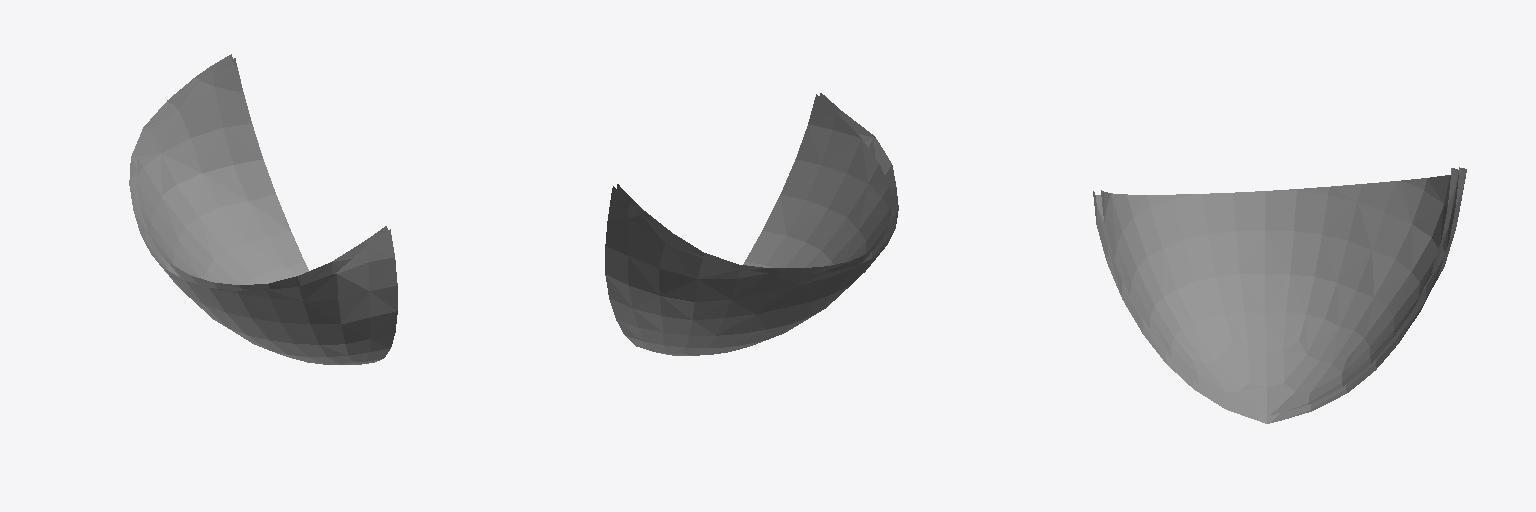
The model's file is Rightventricle.obj.
3 views of the same model, side by side, from view 1: azimuth 30°, elevation 25°; view 2: azimuth 150°, elevation 25°; view 3: azimuth 270°, elevation 25° (orthographic).
Parts seen in each view (by area): view 1: Human_Heart; view 2: Human_Heart; view 3: Human_Heart.
Part boxes in pixels (bbox=[...]): Human_Heart: bbox=[129, 54, 397, 364]; Human_Heart: bbox=[605, 93, 898, 355]; Human_Heart: bbox=[1093, 167, 1466, 423].
Size of the model in its own units: 5.7 by 6.68 by 9.4.